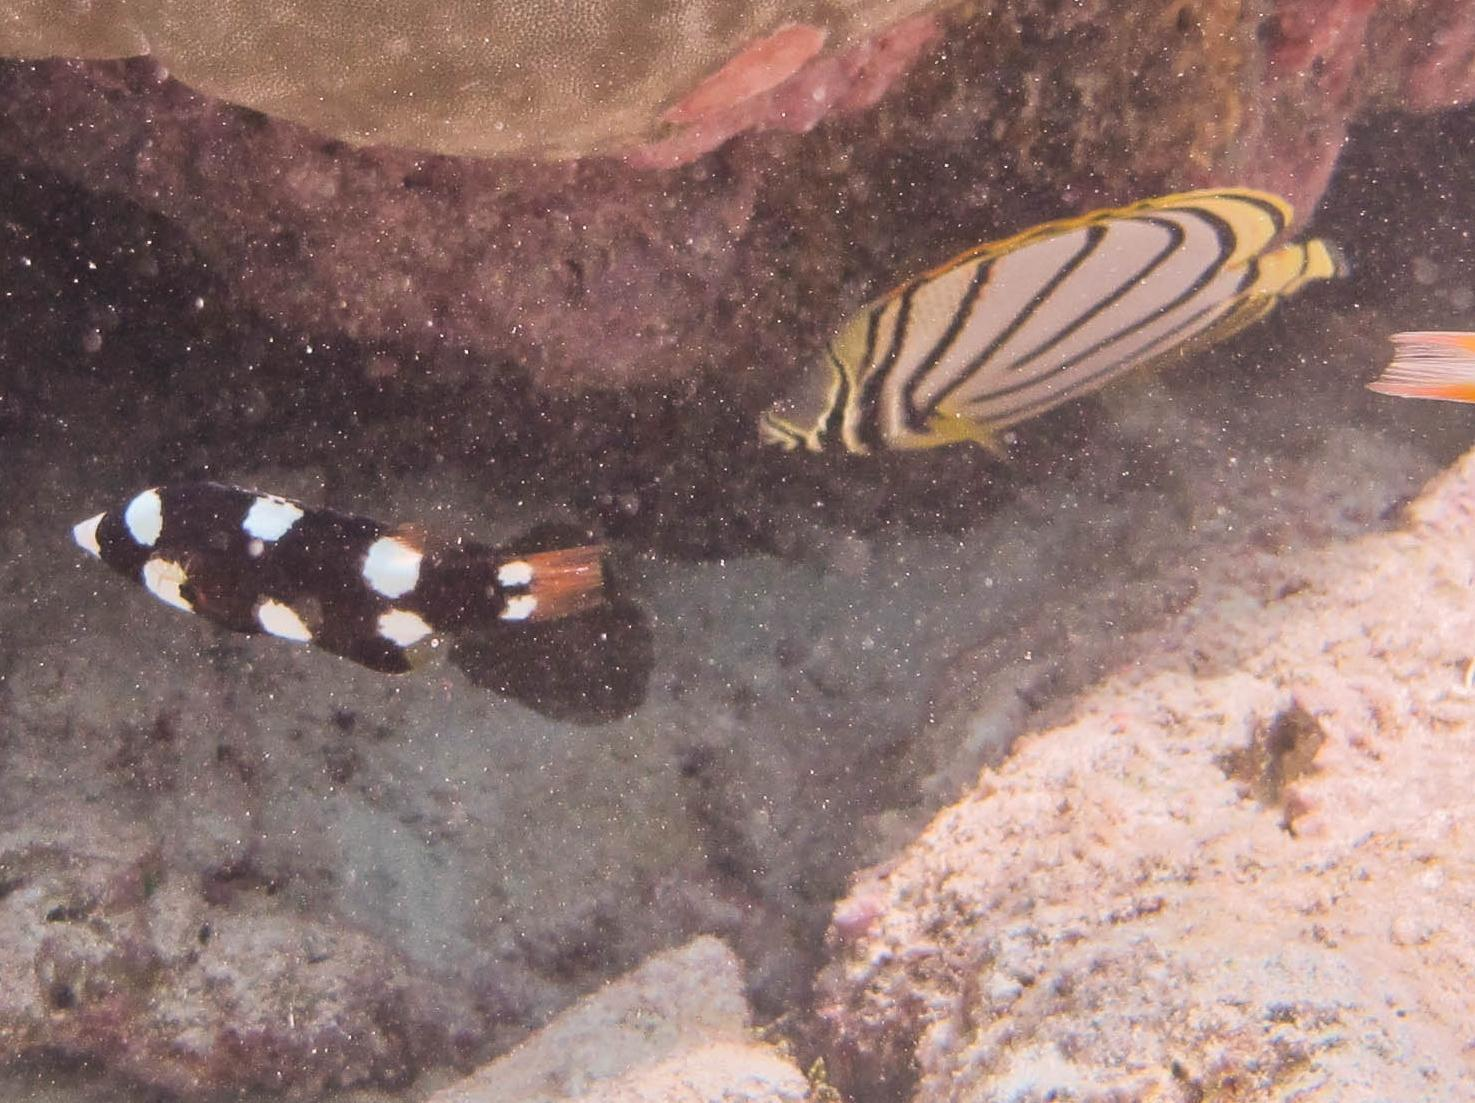Fish: (726, 174, 1390, 523)
